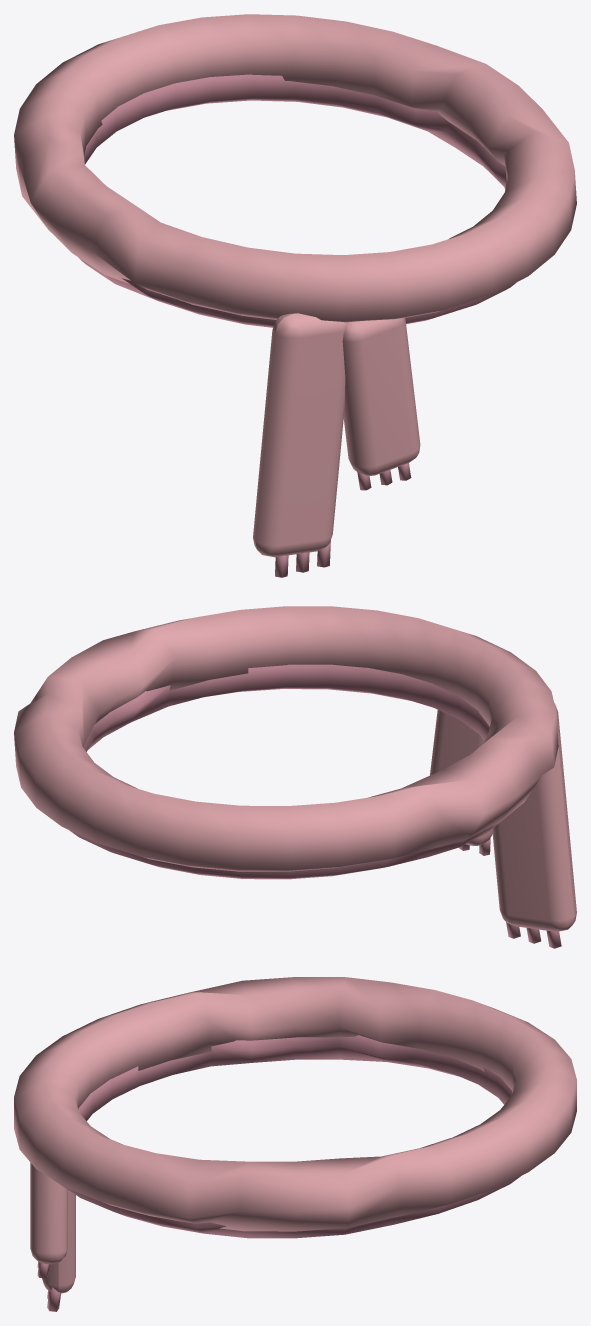
Rendered from cozy_scarf.glb.
3 renders of one model, top to bottom at view 1: azimuth 30°, elevation 25°; view 2: azimuth 150°, elevation 25°; view 3: azimuth 270°, elevation 25°, orthographic. The views are drawn at different scales.
Parts seen in each view (by area): view 1: Rose scarf wrap, Long scarf tail, Rose lower scarf fold, Short scarf tail; view 2: Rose scarf wrap, Rose lower scarf fold, Long scarf tail, Short scarf tail; view 3: Rose scarf wrap, Rose lower scarf fold, Short scarf tail, Long scarf tail.
Boxes of the visible parts, x1,y1,x2,y2 form: Rose scarf wrap: (14, 14, 576, 322); Long scarf tail: (253, 313, 347, 557); Rose lower scarf fold: (78, 74, 516, 327); Short scarf tail: (342, 318, 420, 475); Rose scarf wrap: (14, 606, 558, 871); Rose lower scarf fold: (69, 664, 510, 879); Long scarf tail: (484, 703, 576, 931); Short scarf tail: (430, 710, 492, 845); Rose scarf wrap: (14, 977, 576, 1231); Rose lower scarf fold: (63, 1035, 520, 1238); Short scarf tail: (30, 1162, 67, 1264); Long scarf tail: (42, 1190, 75, 1293).
Bounding box in the file's own units: 0.636 × 0.4052 × 0.7062.
